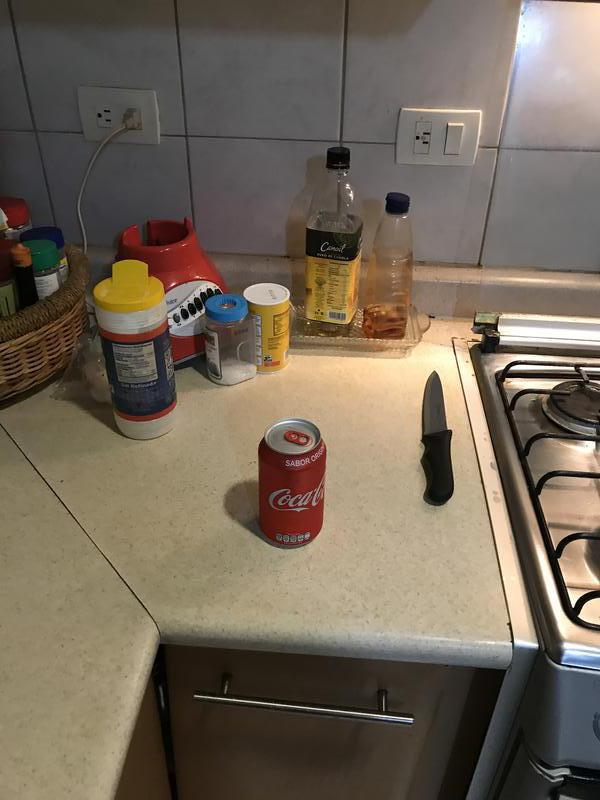coca_cola: (261, 420, 324, 549)
